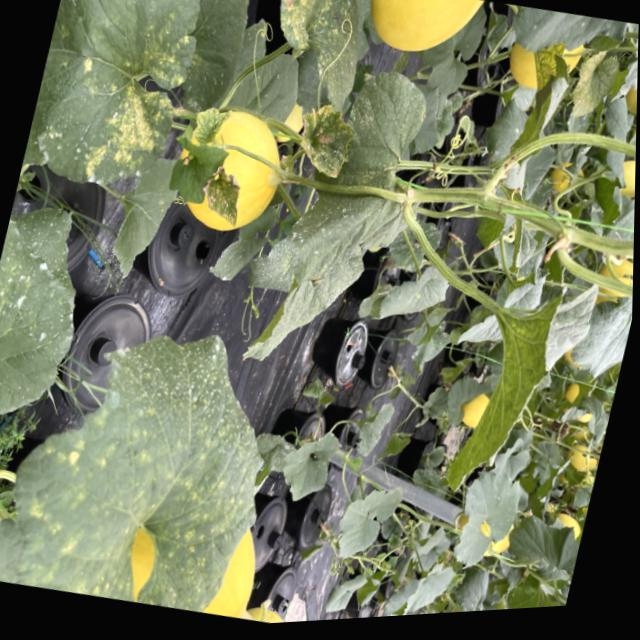CMV: (436, 257, 601, 514)
SLCV: (289, 97, 360, 181)
alternaria leaf blight: (195, 161, 250, 230)
downy mildew: (0, 294, 294, 631), (21, 0, 217, 195), (0, 192, 106, 461), (260, 0, 378, 109)
